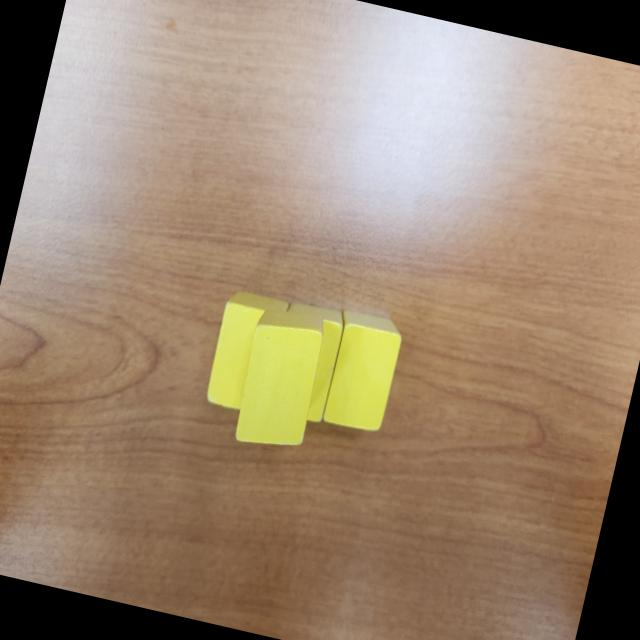yellow: (227, 302, 331, 459), (202, 285, 292, 416), (315, 306, 406, 434), (263, 294, 349, 429)
